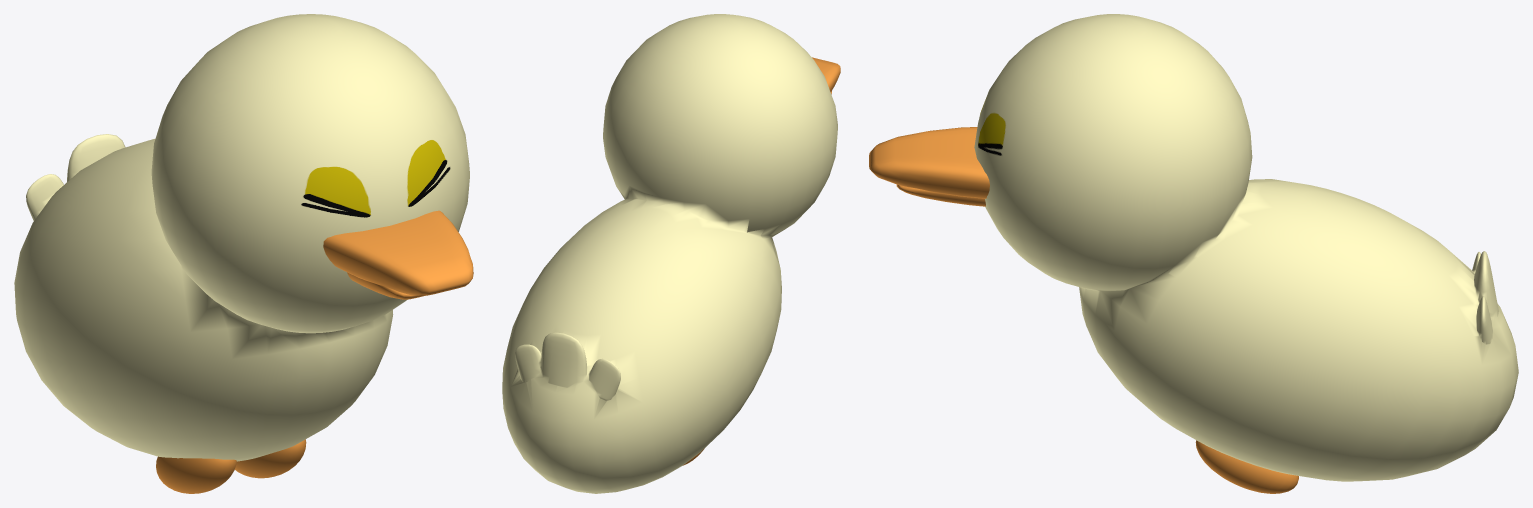
The model's file is wingless_duck.fbx.
3 views of the same model, side by side, from view 1: azimuth 30°, elevation 25°; view 2: azimuth 150°, elevation 25°; view 3: azimuth 270°, elevation 25° (orthographic). The views are drawn at different scales.
Parts seen in each view (by area): view 1: Sphere, Cube.003, Sphere.002, Sphere.003, Cube.004; view 2: Sphere, Cube.003; view 3: Sphere, Cube.003, Sphere.003, Cube.004.
Boxes of the visible parts, box(x1,y1,x2,y2) form: Sphere: box(14, 14, 469, 461); Cube.003: box(323, 210, 473, 295); Sphere.002: box(156, 456, 236, 493); Sphere.003: box(235, 439, 306, 478); Cube.004: box(347, 272, 426, 299); Sphere: box(502, 14, 837, 493); Cube.003: box(812, 57, 840, 91); Sphere: box(974, 14, 1518, 481); Cube.003: box(869, 127, 989, 198); Sphere.003: box(1195, 440, 1298, 493); Cube.004: box(896, 184, 985, 206).
Size of the model in its own units: 206 by 358 by 467.
5 materials, 5 textured.
